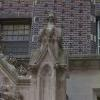Statue: (24, 7, 80, 91)
